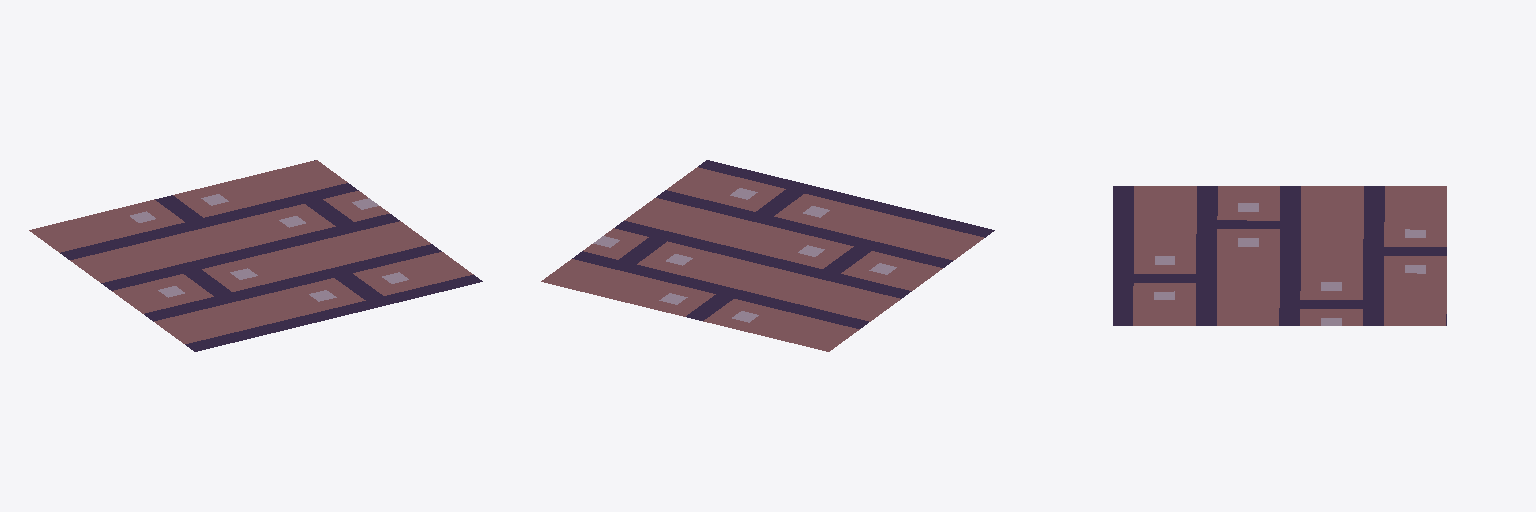
3 renders of one model, left to right at view 1: azimuth 30°, elevation 25°; view 2: azimuth 150°, elevation 25°; view 3: azimuth 270°, elevation 25°, orthographic.
Visible parts, largest first — view 1: Plane; view 2: Plane; view 3: Plane.
Boxes of the visible parts, <box> form: Plane: <box>29,160,482,351</box>; Plane: <box>541,160,994,351</box>; Plane: <box>1113,186,1446,325</box>.
Bounding box in the file's own units: 2 × 0 × 2.
Materials: 1 (1 with a texture image).